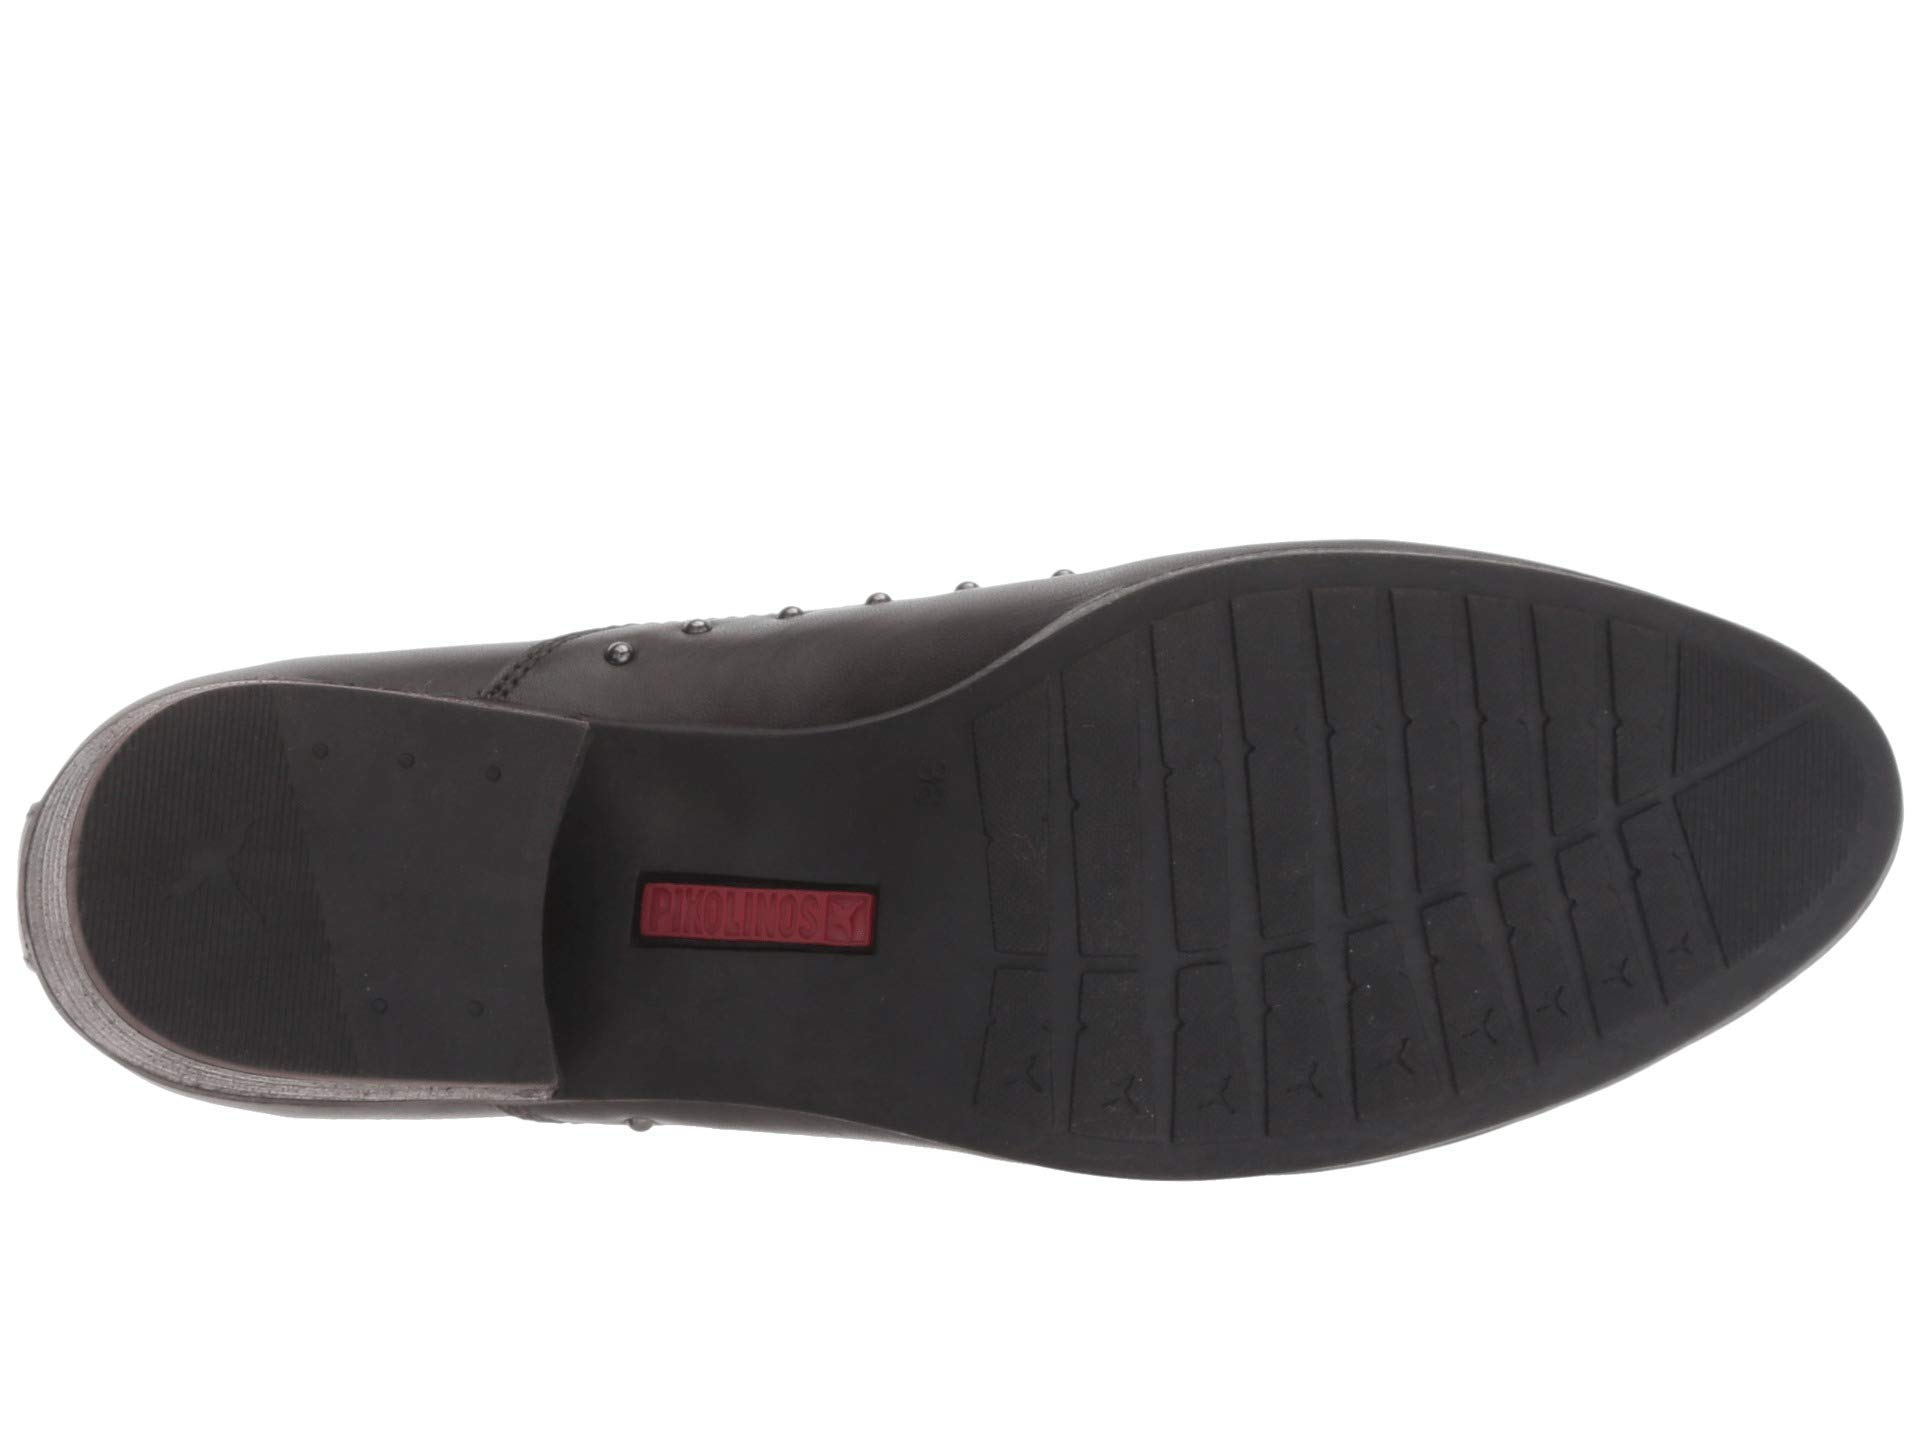circle: (304, 732, 517, 799), (354, 988, 506, 1035)
line: (116, 761, 301, 1023), (1699, 755, 1847, 874)
quad: (1052, 877, 1367, 1168), (1436, 588, 1607, 1113)
star: (1052, 877, 1367, 1168)
